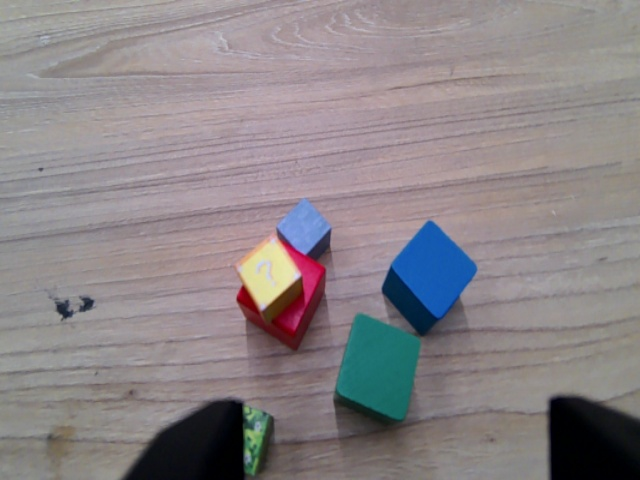grass: (245, 402, 270, 475)
lucky: (237, 232, 301, 315)
stone: (287, 201, 331, 254)
